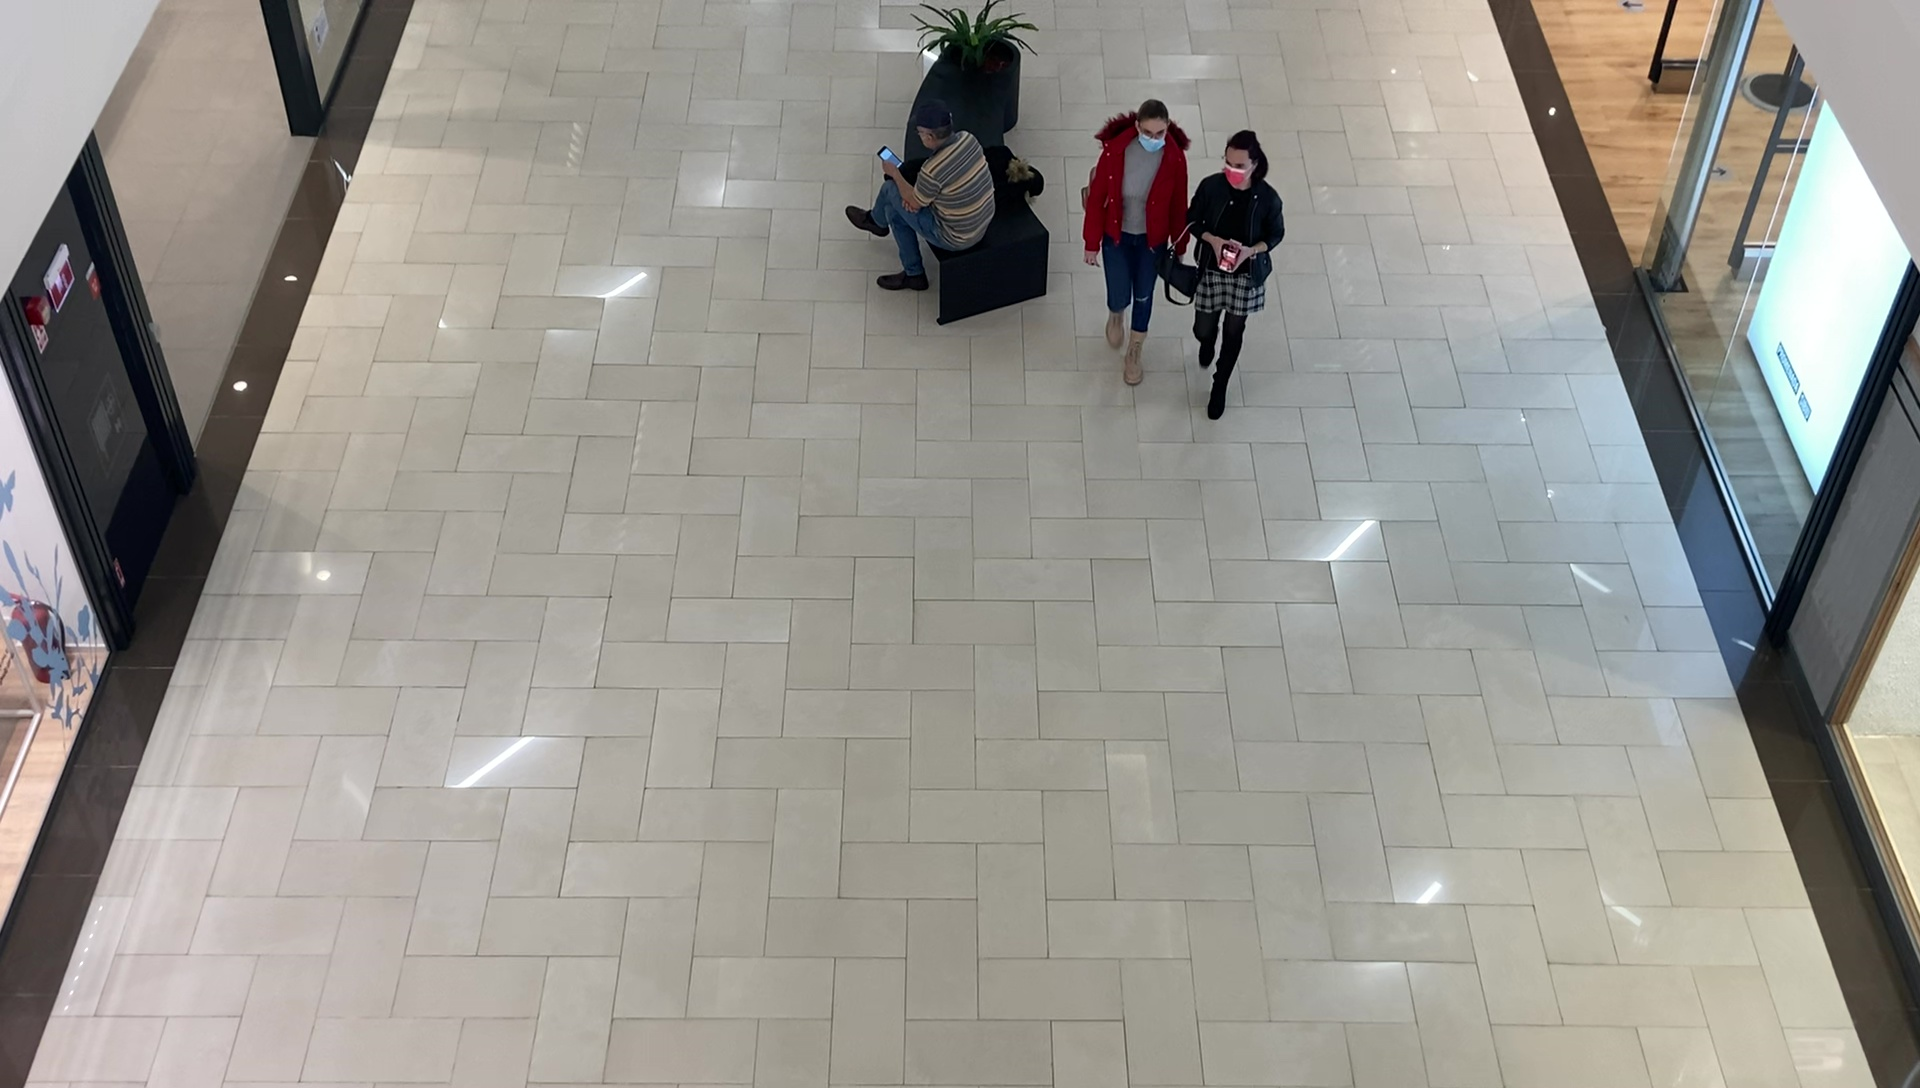person: (1080, 95, 1186, 385), (1190, 122, 1289, 425)
